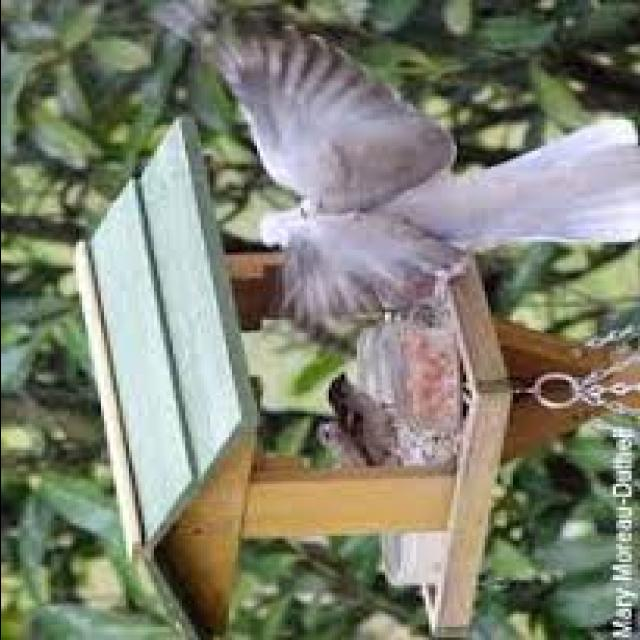pigeon: (228, 25, 640, 344)
